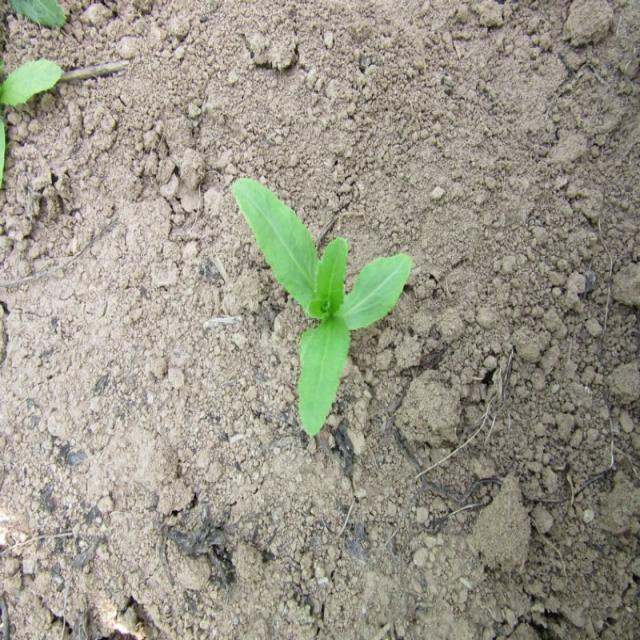cs: (228, 169, 413, 442)
